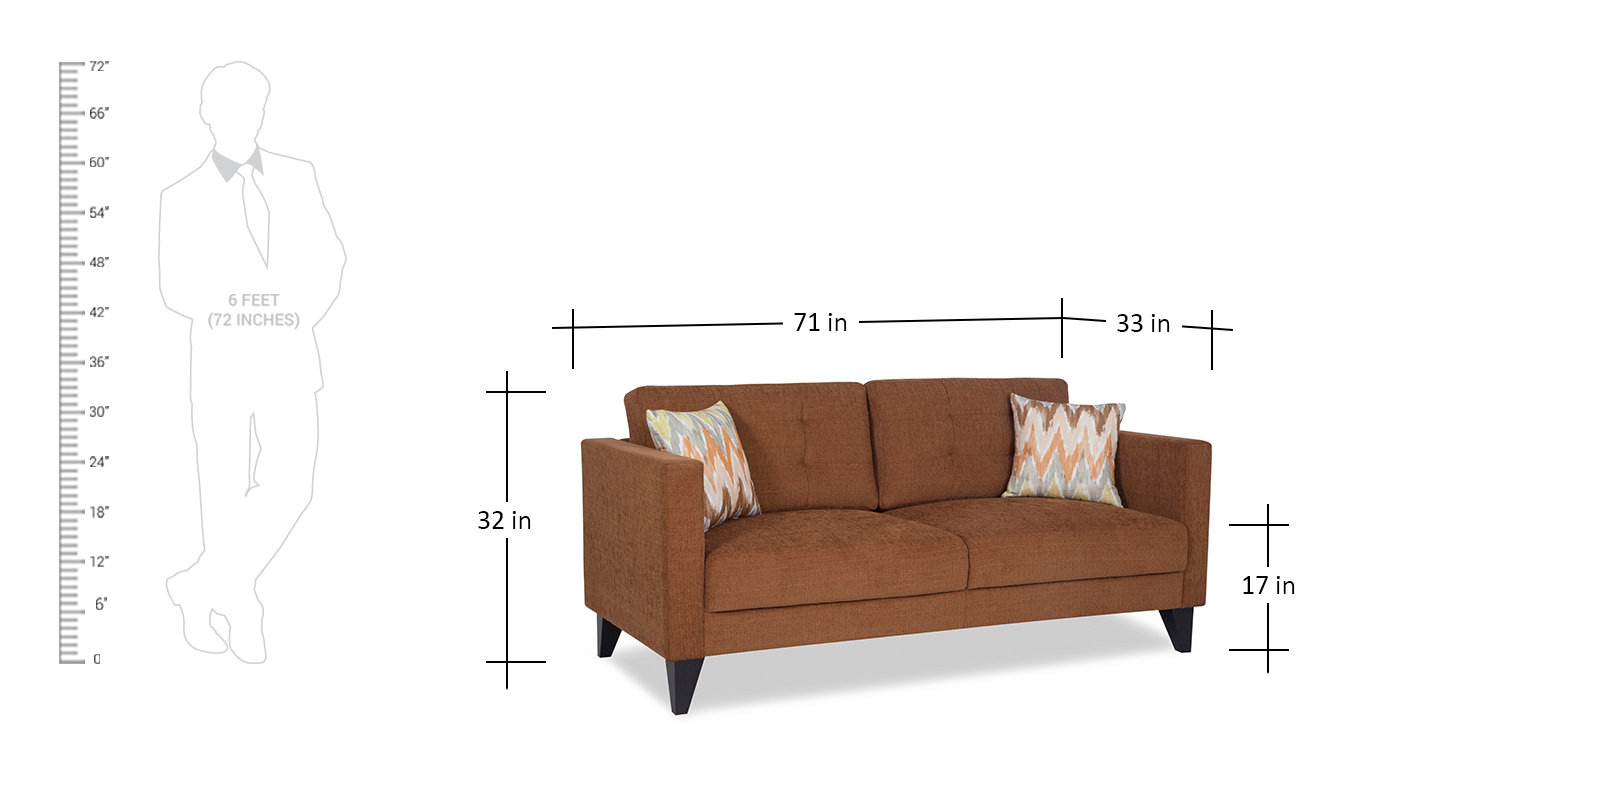Greenwich Three Seater Sofa in Caramel Brown Colour by Urban Living: (579, 377, 1227, 714)
